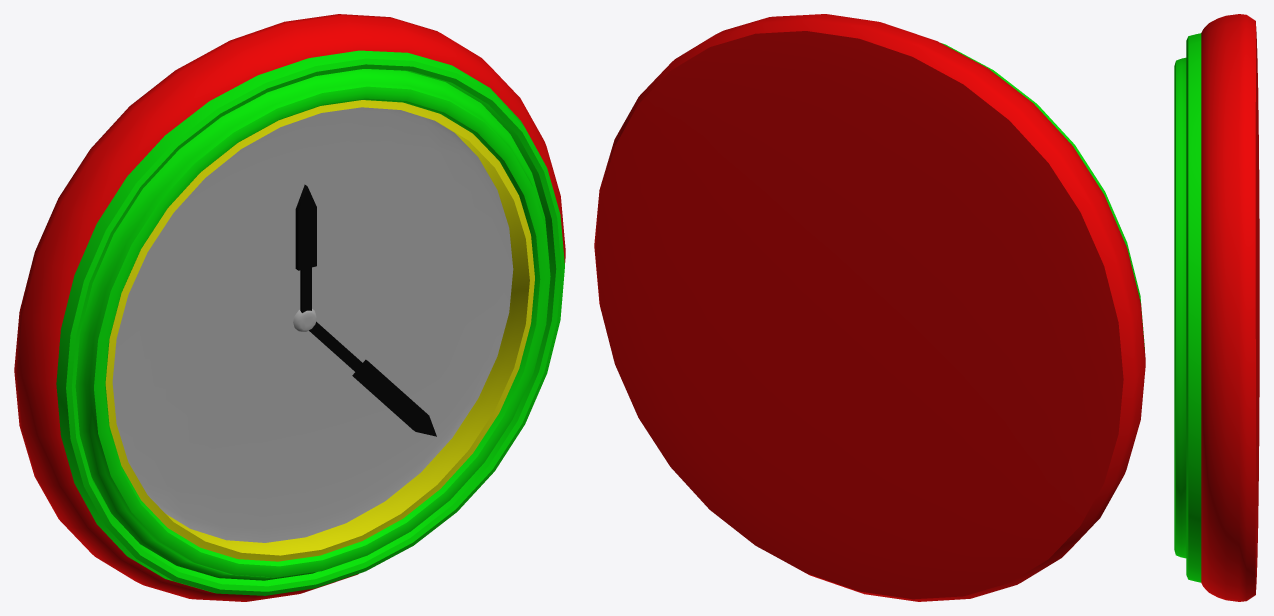
The model's file is wallClock.fbx.
3 renders of one model, left to right at view 1: azimuth 30°, elevation 25°; view 2: azimuth 150°, elevation 25°; view 3: azimuth 270°, elevation 25°, orthographic. The views are drawn at different scales.
Parts seen in each view (by area): view 1: pCube16; view 2: pCube16; view 3: pCube16.
Boxes of the visible parts, x1,y1,x2,y2 form: pCube16: [14, 14, 565, 601]; pCube16: [594, 14, 1145, 601]; pCube16: [1174, 14, 1259, 601].
Bounding box in the file's own units: 4 × 4 × 0.584.
